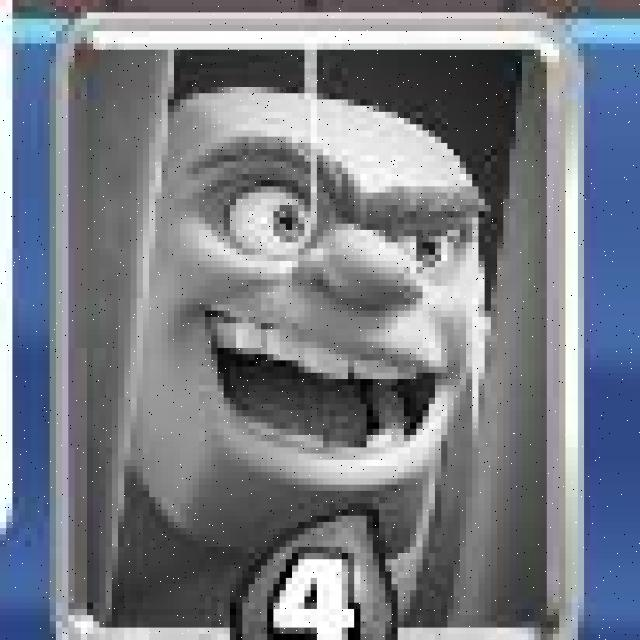Goblin_Cage: (55, 12, 586, 640)
